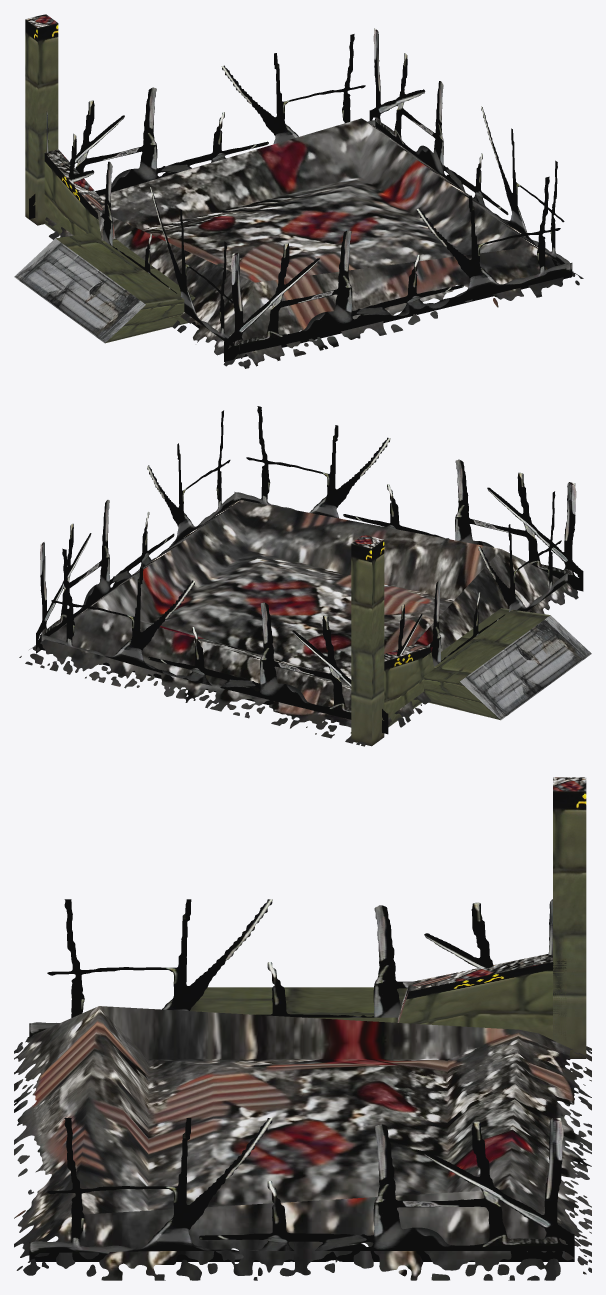
The model's file is l_residencecore_dam_hdtex.glb.
3 views of the same model, one above another, from view 1: azimuth 30°, elevation 25°; view 2: azimuth 150°, elevation 25°; view 3: azimuth 270°, elevation 25° (orthographic). The views are drawn at different scales.
Visible parts, largest first — view 1: L-RescoreDAM; view 2: L-RescoreDAM; view 3: L-RescoreDAM.
Part boxes in pixels (x1,y1,x2,y2): L-RescoreDAM: [14, 14, 583, 368]; L-RescoreDAM: [19, 406, 591, 746]; L-RescoreDAM: [14, 777, 591, 1280].
Bounding box in the file's own units: 26.82 × 11.89 × 23.26.
4 materials, 4 textured.
